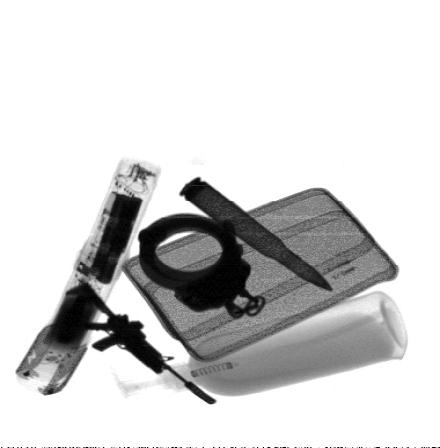Baton: (14, 155, 165, 396)
Bullet: (179, 174, 333, 293)
Gun: (65, 281, 219, 404)
HandCuffs: (138, 213, 267, 319)
